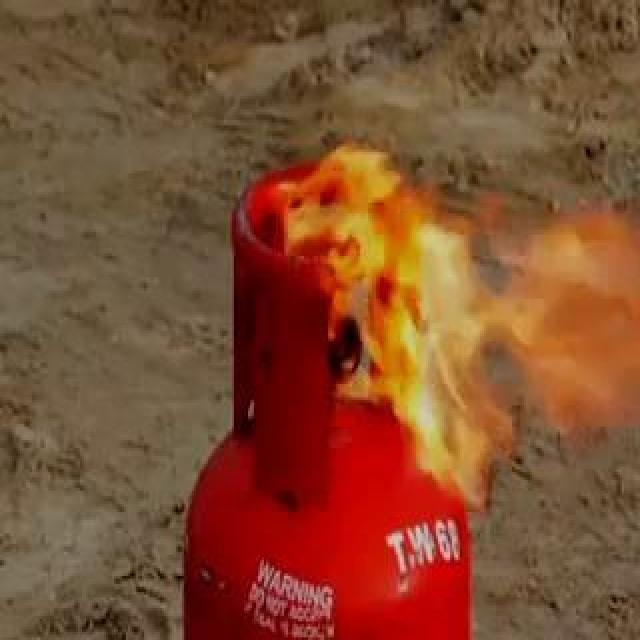Fire: (261, 116, 597, 489)
